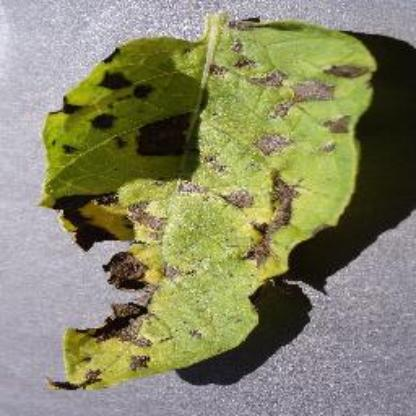Early-Blight: (30, 13, 397, 393)
